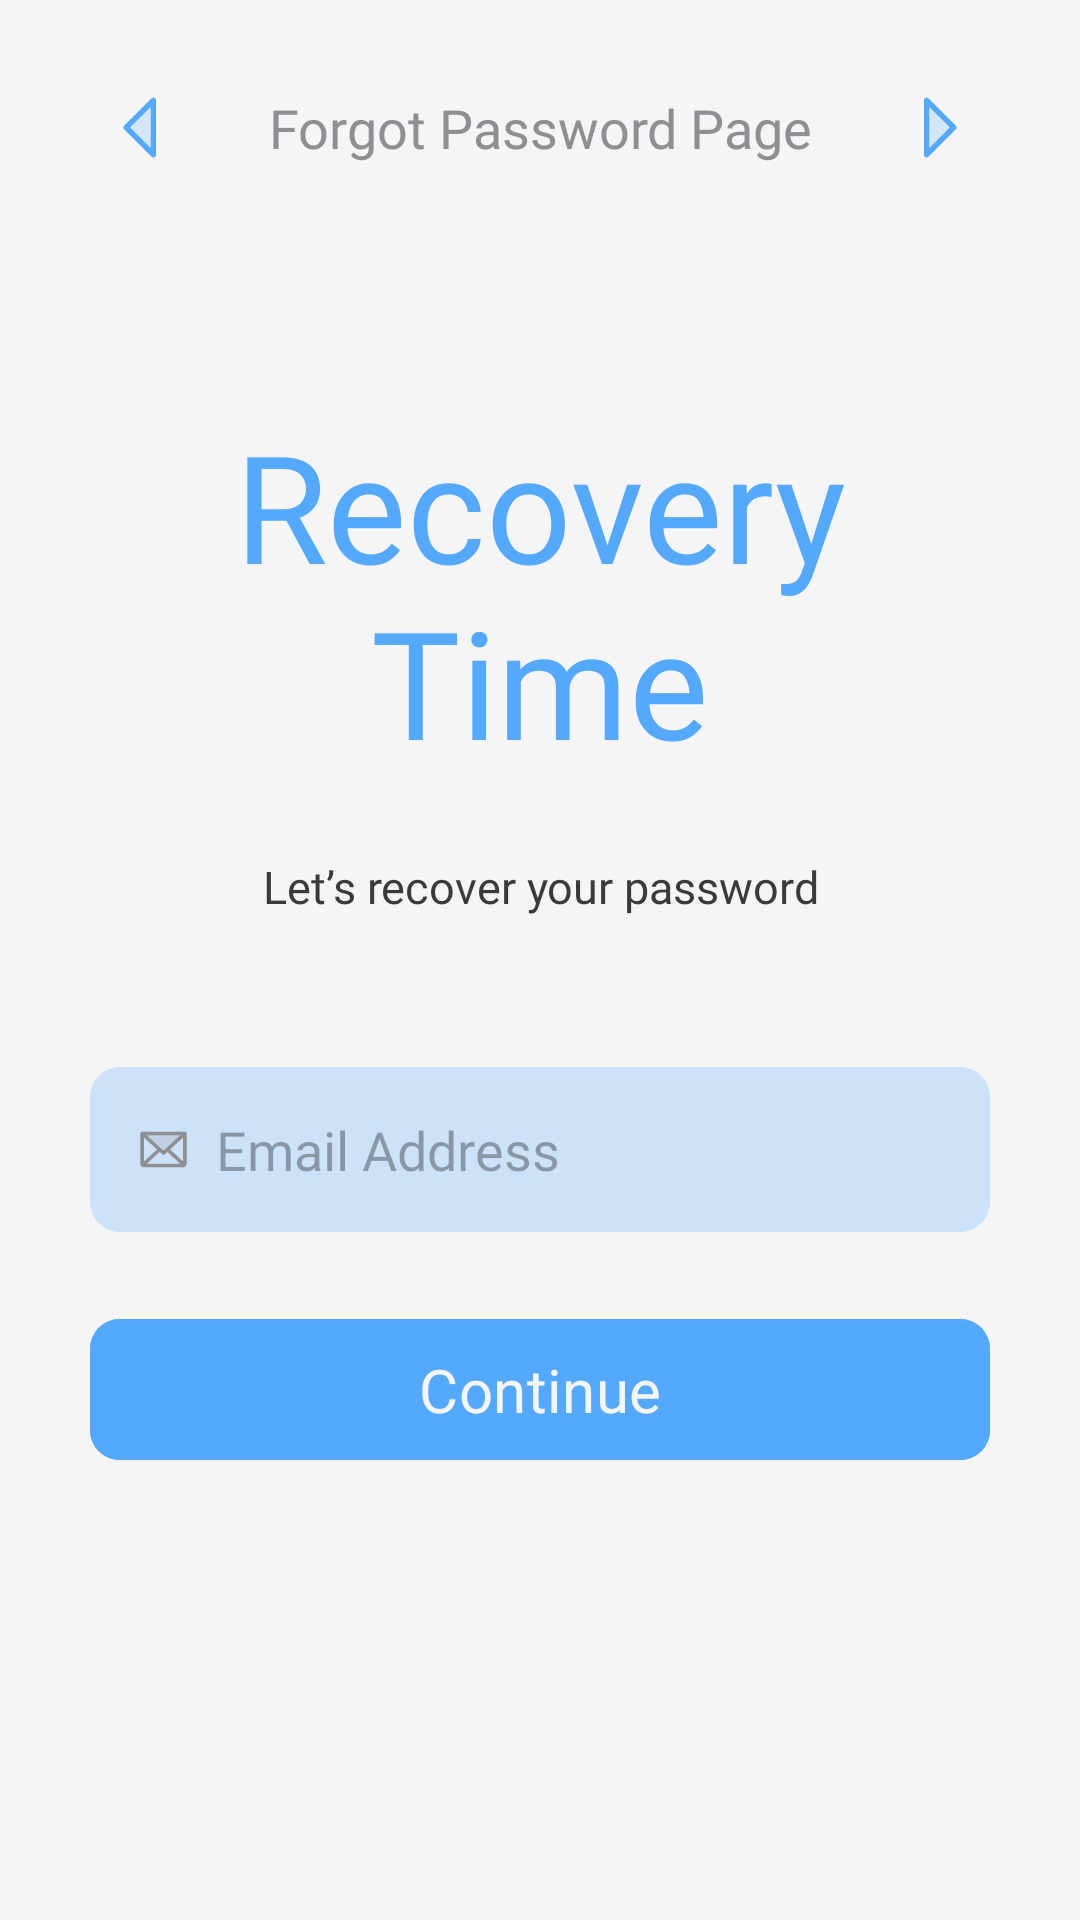

Point at icon controls on the screen. Image size 1080×1920, points as [x,y].
arrow left: [139,127]
arrow right: [940,127]
